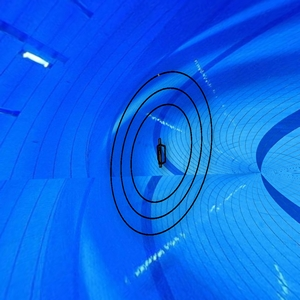circle: (107, 69, 215, 239)
submarine: (153, 136, 172, 175)
